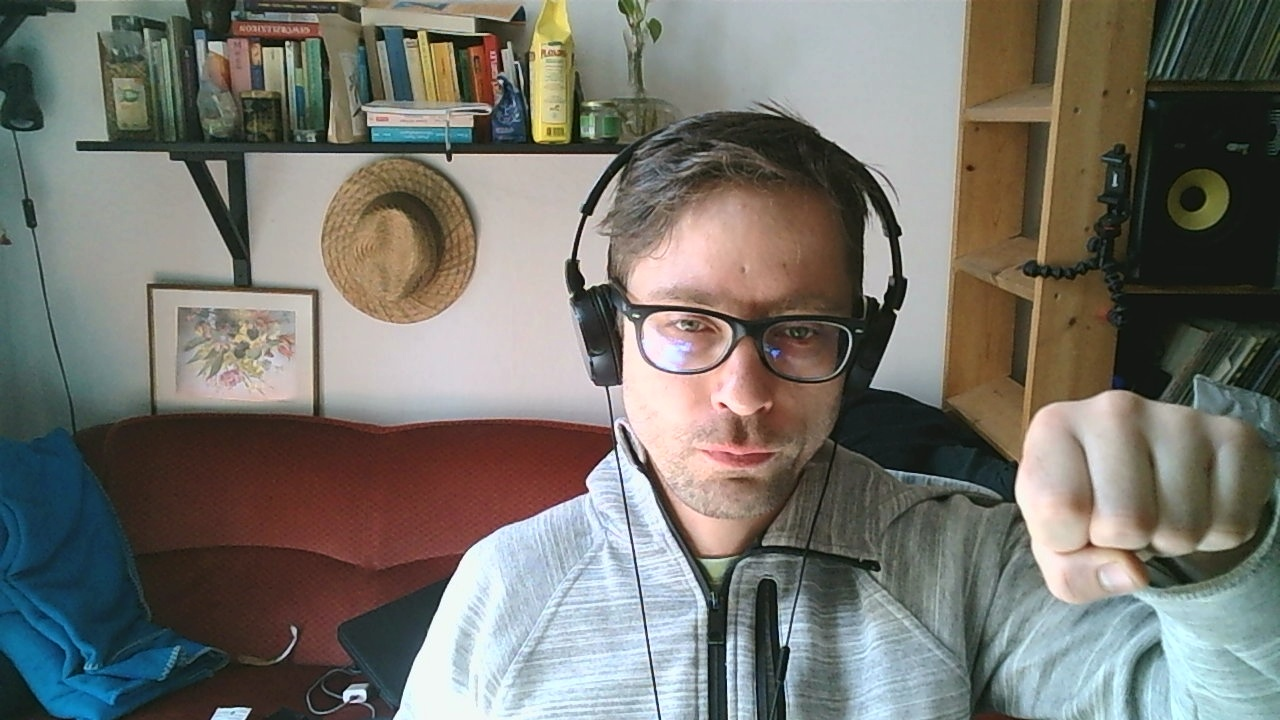yes: (1011, 384, 1270, 606)
